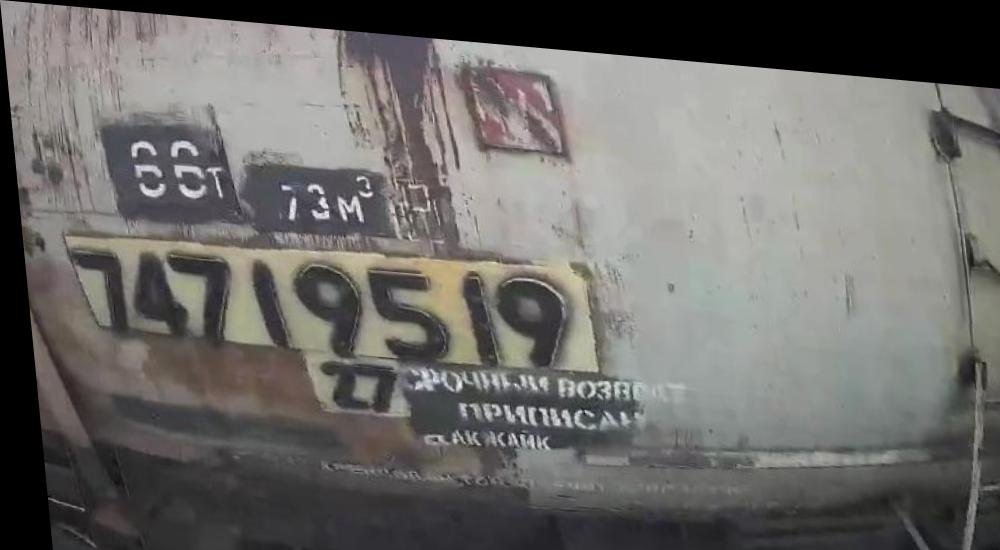Wagon-number: (59, 229, 575, 368)
